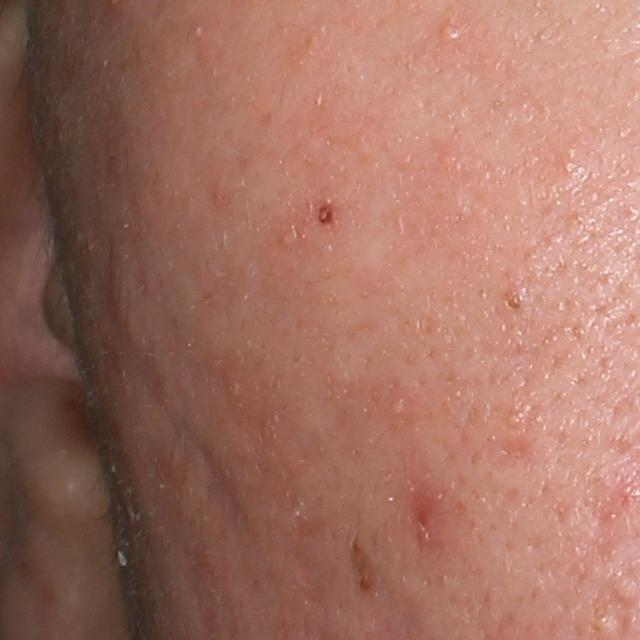atrophic_scar: (166, 416, 255, 533)
comedo: (503, 288, 528, 313), (503, 408, 523, 429), (191, 20, 211, 39), (388, 400, 404, 417)
